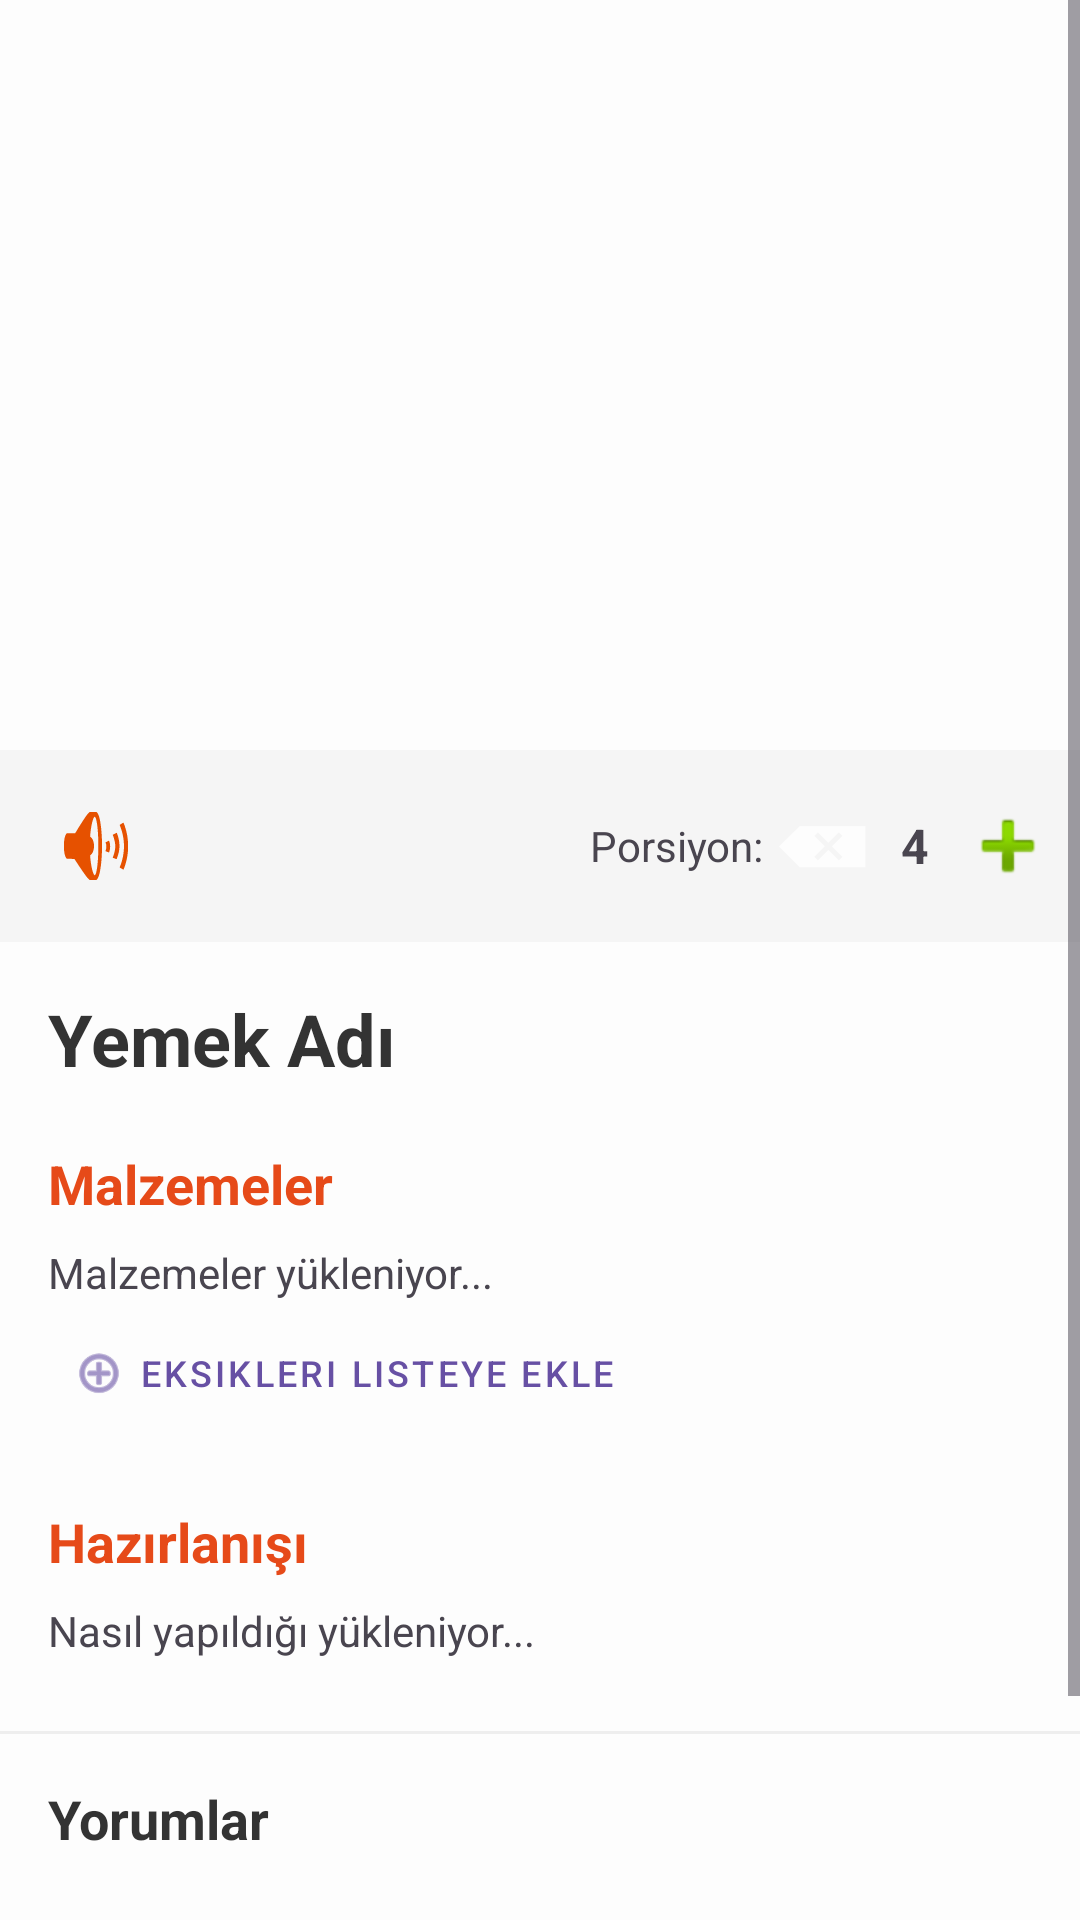

Point at icon controls on the screen. Image size 1080x1920, points as point (x, y).
add: point (1008, 846)
lock silent mode off: point (96, 846)
